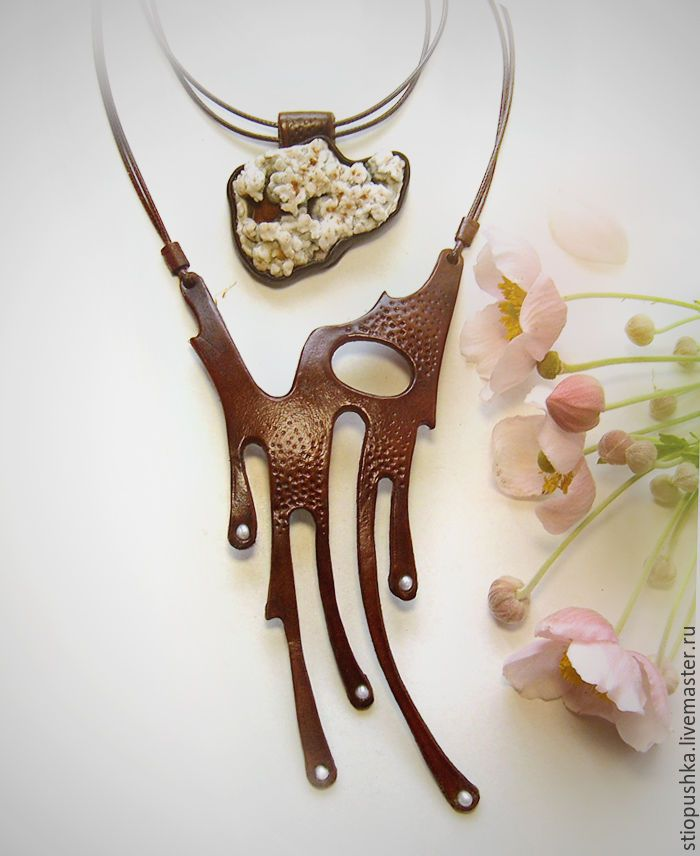cuero: (159, 240, 481, 816)
